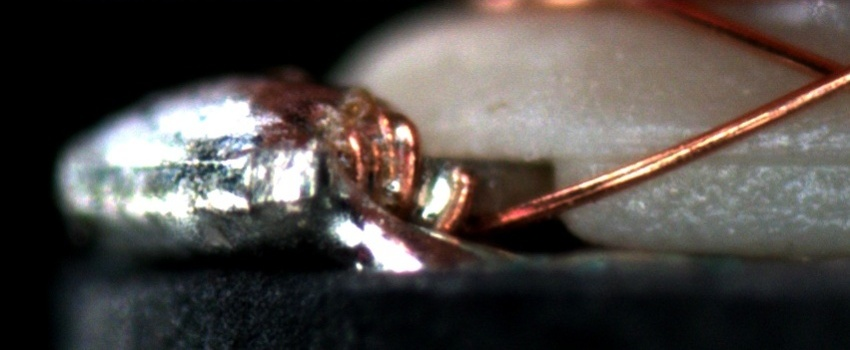CL: (784, 43, 846, 104)
DL: (580, 123, 849, 187)
TE: (325, 91, 480, 246)
